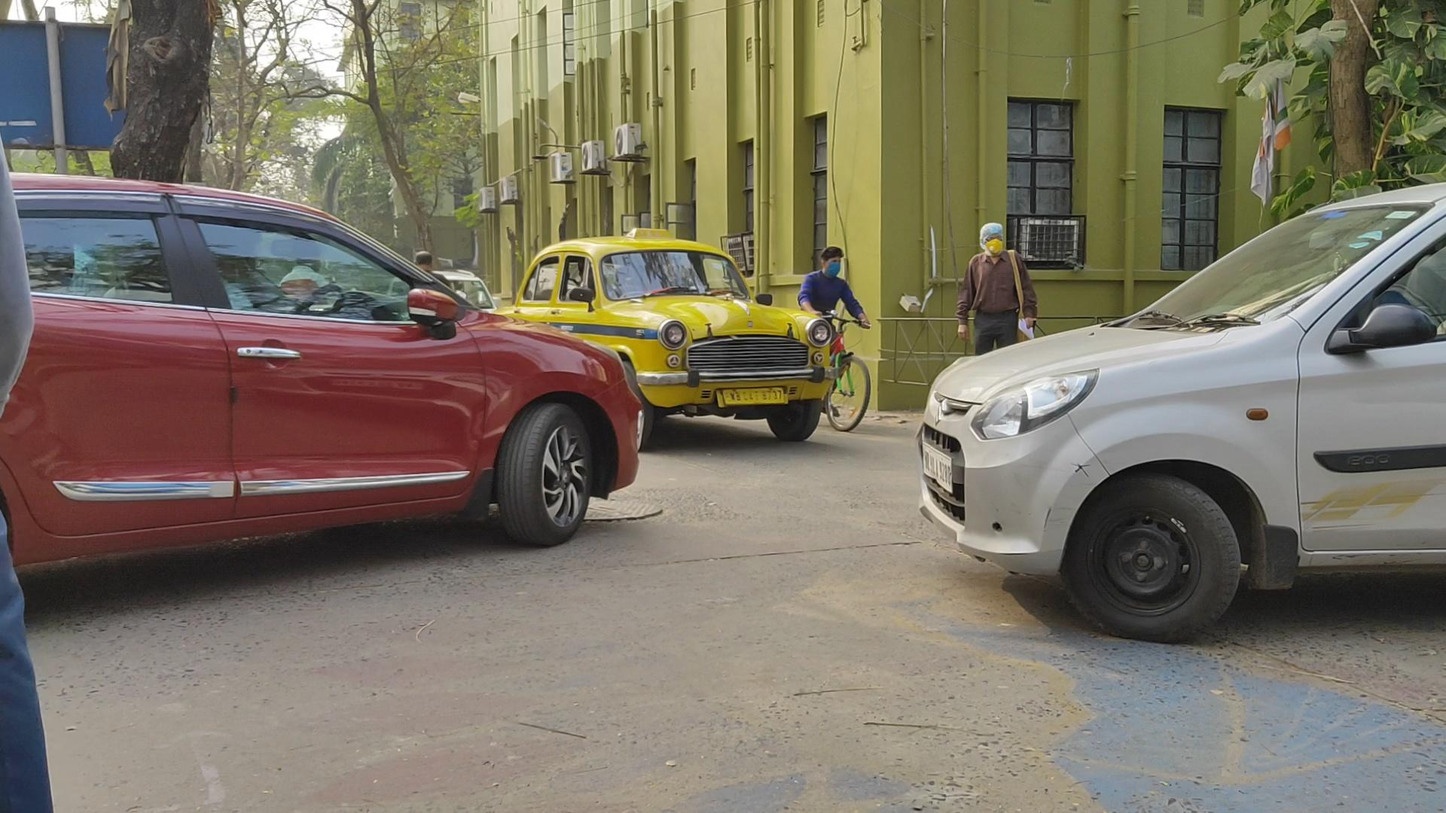bike: (769, 246, 873, 433)
car: (2, 172, 643, 662), (920, 182, 1446, 646), (461, 227, 834, 457)
